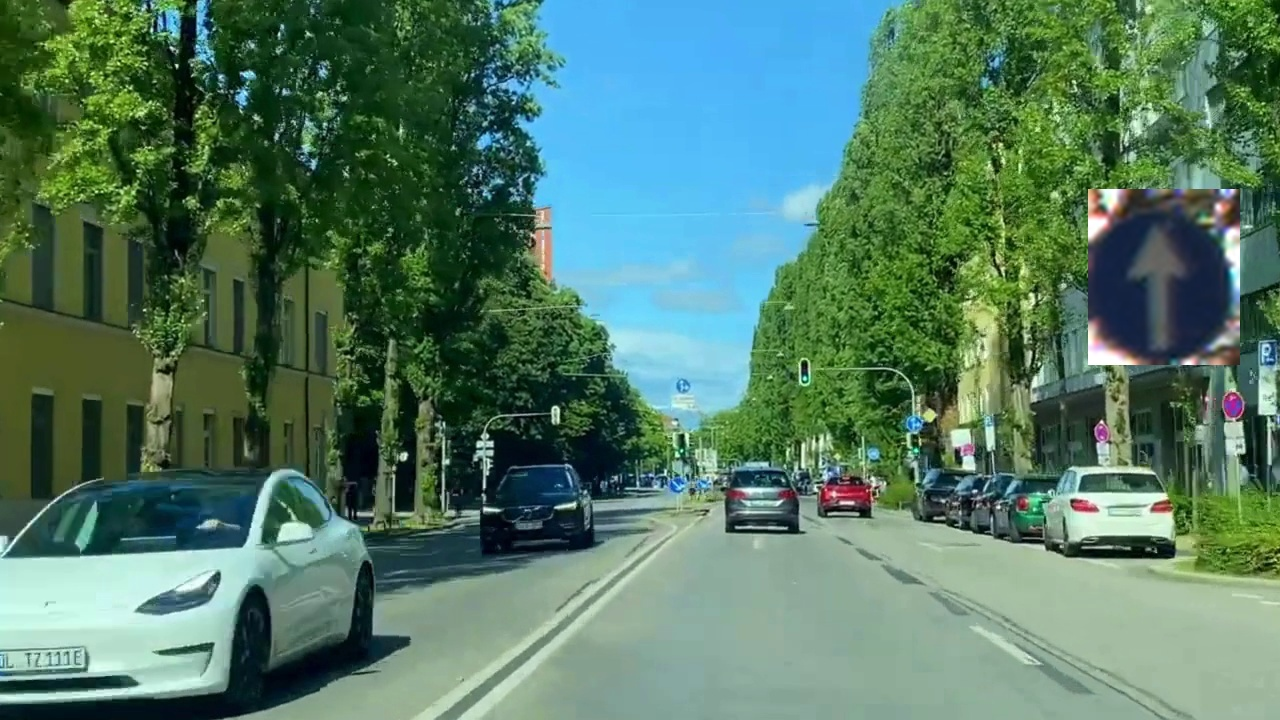Ahead only: (1088, 189, 1240, 365)
